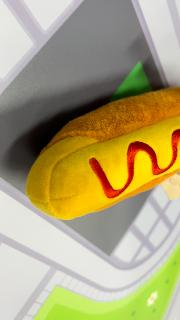hotdog: (25, 86, 179, 222)
